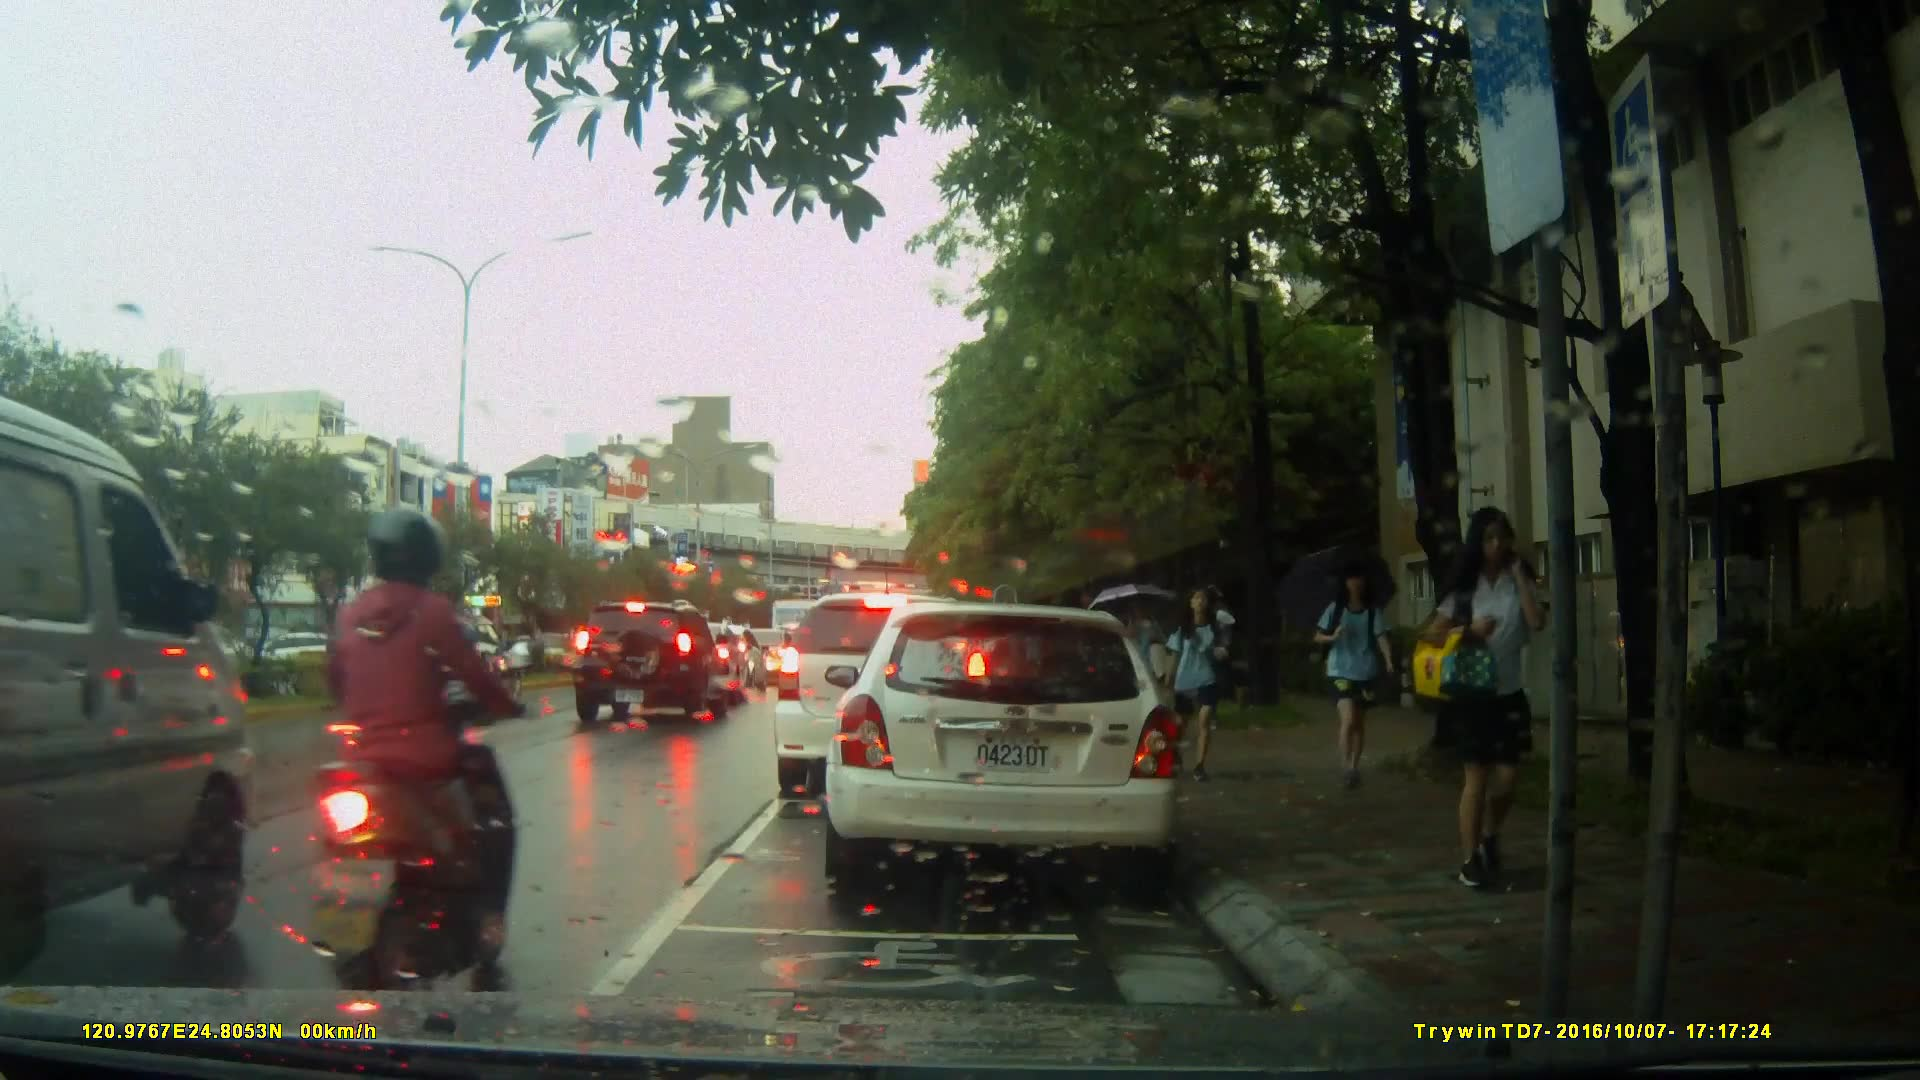pedestrian: (1441, 500, 1558, 886), (1310, 559, 1386, 794), (1169, 566, 1247, 764), (1891, 481, 1917, 930)
rider: (299, 505, 525, 1002)
vehicle: (1, 390, 287, 976), (815, 593, 1204, 909), (771, 590, 994, 802), (569, 600, 734, 725), (375, 613, 528, 717)
